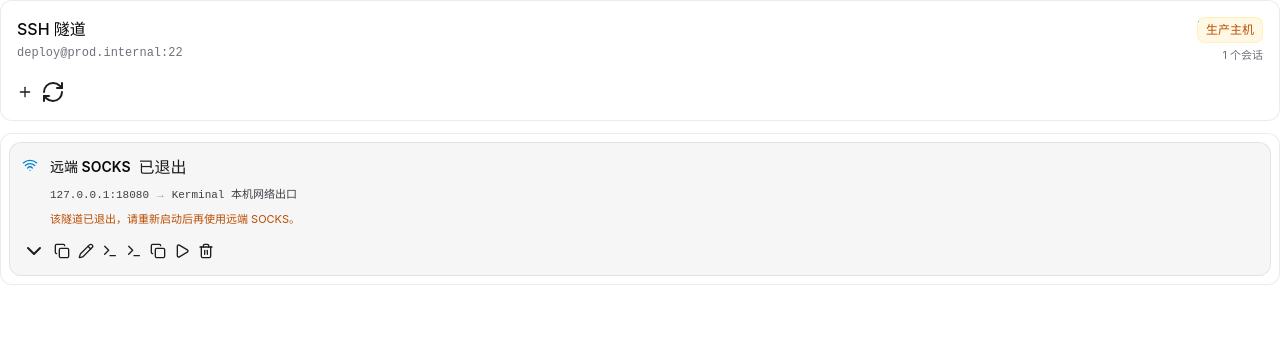
Scenario: PortForwardToolContent › starts an exited saved tunnel for the same host
Click the button named "启动隧道" at (182, 251), box [174,239,190,263]
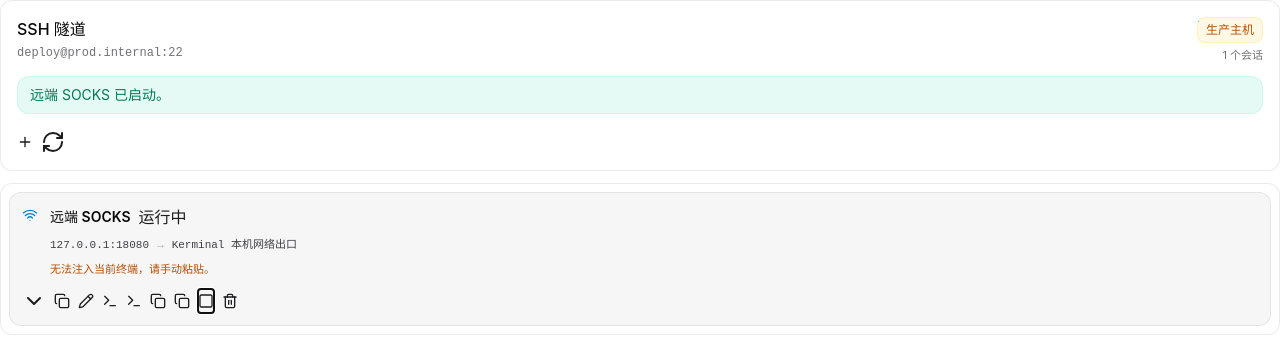
Now the text "远端 SOCKS 已启动。" is shown, box [17,76,1263,114]
Now the button named "停止隧道" is shown, box [198,289,214,313]
